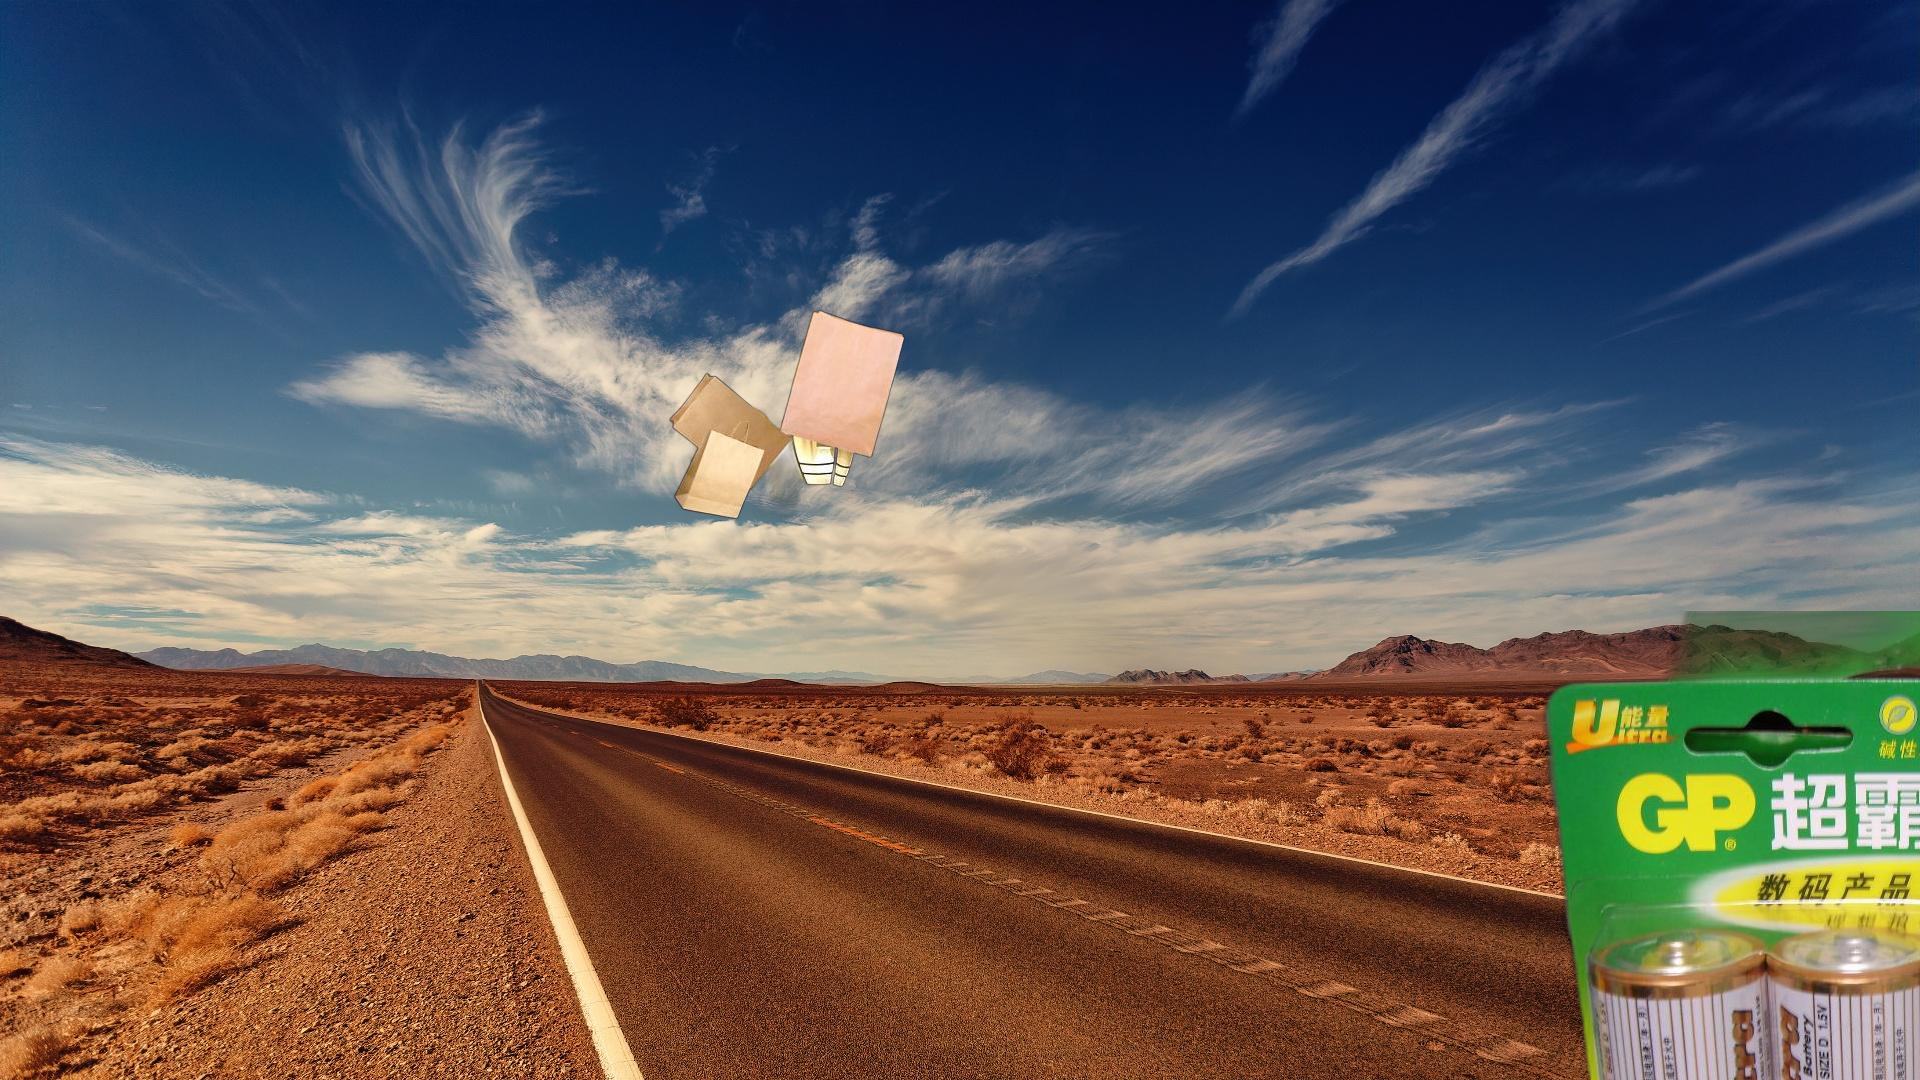battery: (1535, 611, 1920, 1080)
paper-bag: (646, 287, 907, 587)
